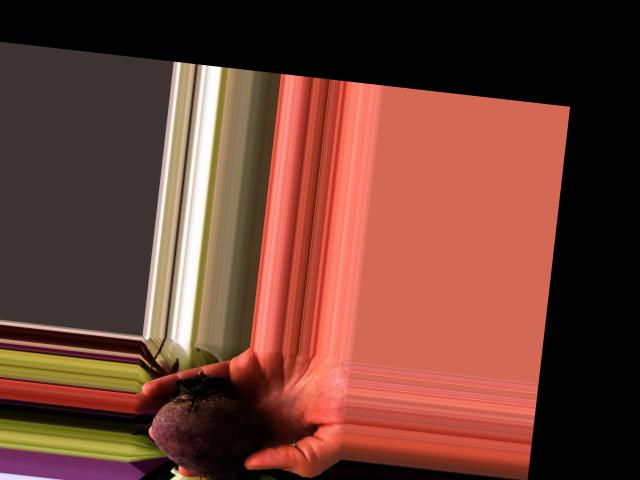beet: (142, 365, 271, 480)
